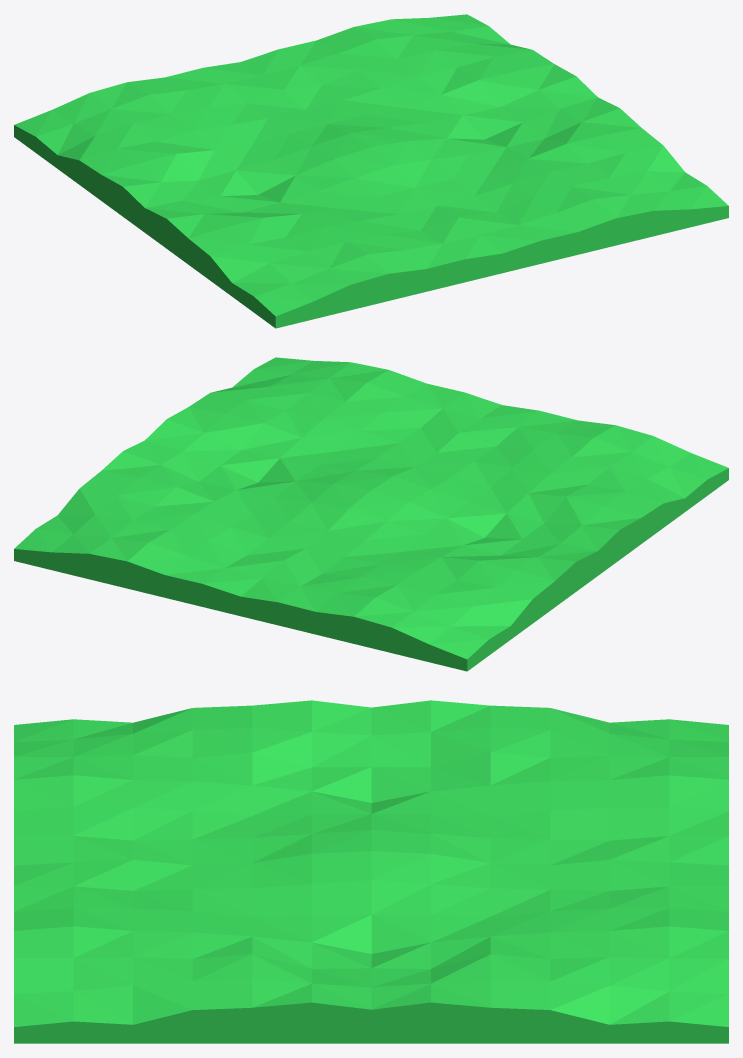
File: Terrain Green  2.fbx
3 views of the same model, one above another, from view 1: azimuth 30°, elevation 25°; view 2: azimuth 150°, elevation 25°; view 3: azimuth 270°, elevation 25° (orthographic). The views are drawn at different scales.
Parts seen in each view (by area): view 1: Cube.012; view 2: Cube.012; view 3: Cube.012.
Boxes of the visible parts, x1,y1,x2,y2 form: Cube.012: (14,14,728,328); Cube.012: (14,357,728,671); Cube.012: (14,700,728,1043).
Size of the model in its own units: 16 by 1.03 by 16.
